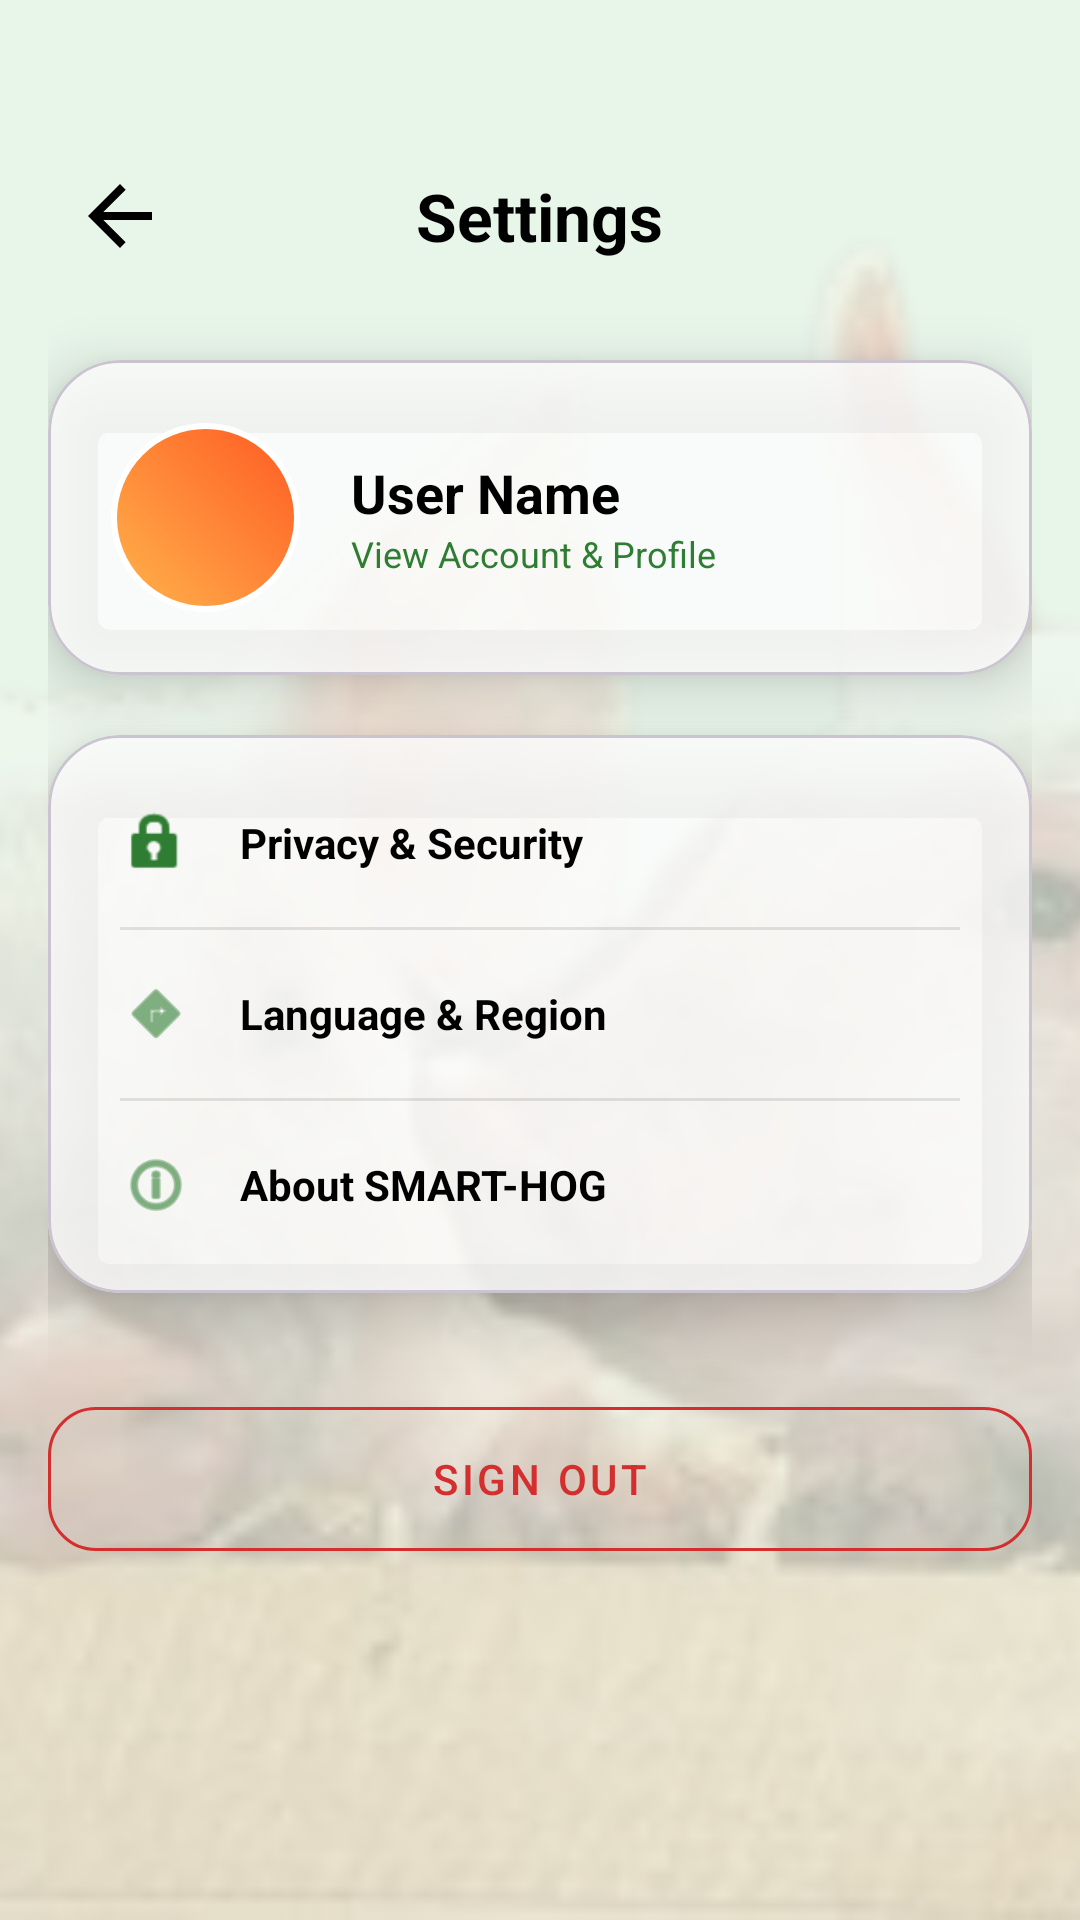

Screen size 1080px×1920px. Icon name, then its box in pixels as box=[x1, y1, x2, y2]:
back arrow: box=[88, 184, 152, 248]
directions: box=[131, 989, 181, 1038]
info details: box=[130, 1159, 182, 1211]
lock idle: box=[131, 813, 178, 868]
